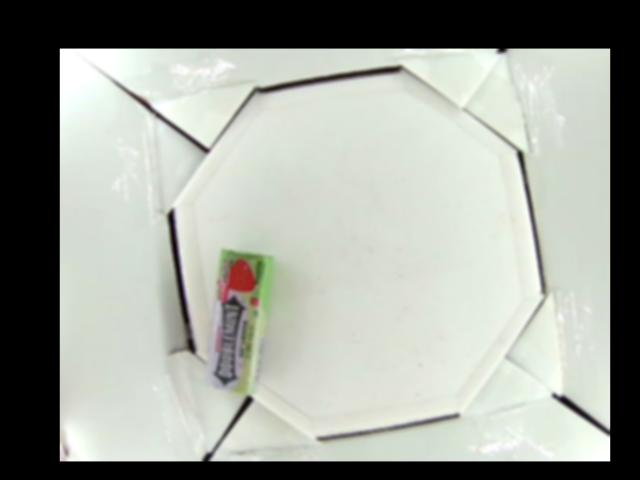Bottle: (206, 246, 272, 399)
